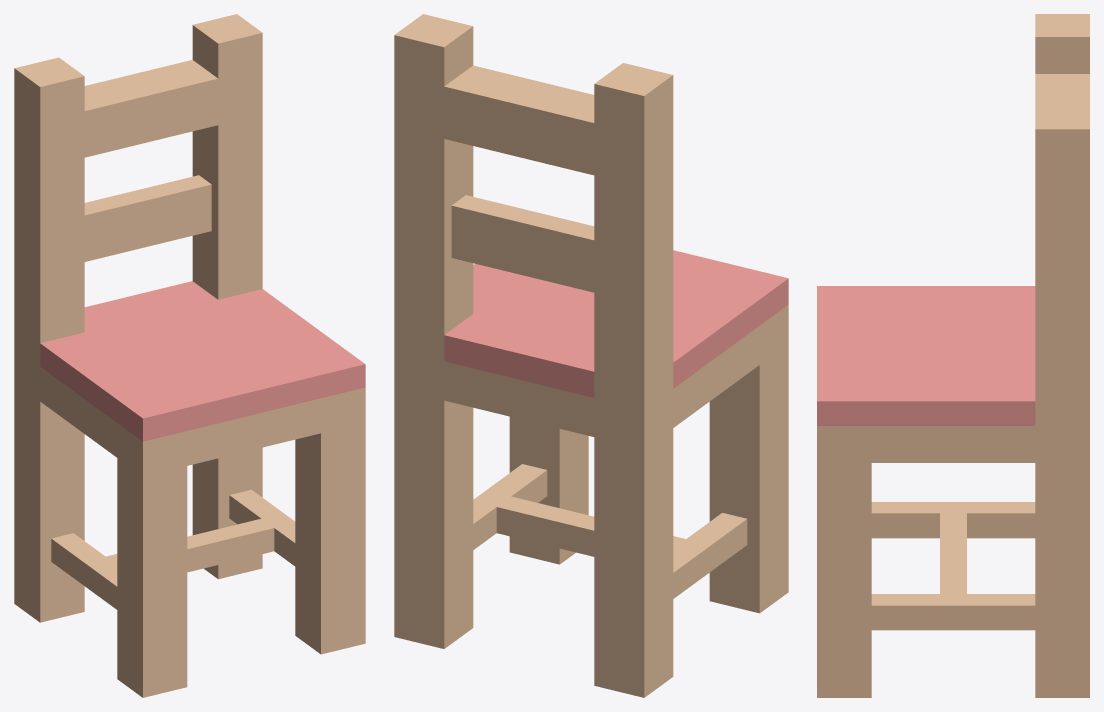
File: chairCushion.glb
3 views of the same model, side by side, from view 1: azimuth 30°, elevation 25°; view 2: azimuth 150°, elevation 25°; view 3: azimuth 270°, elevation 25° (orthographic). The views are drawn at different scales.
Visible parts, largest first — view 1: chairCushion(Clone); view 2: chairCushion(Clone); view 3: chairCushion(Clone).
Boxes of the visible parts, bbox=[...] form: chairCushion(Clone): bbox=[14, 14, 365, 697]; chairCushion(Clone): bbox=[394, 14, 788, 697]; chairCushion(Clone): bbox=[817, 14, 1089, 697].
Size of the model in its own units: 0.4 by 0.92 by 0.4.
